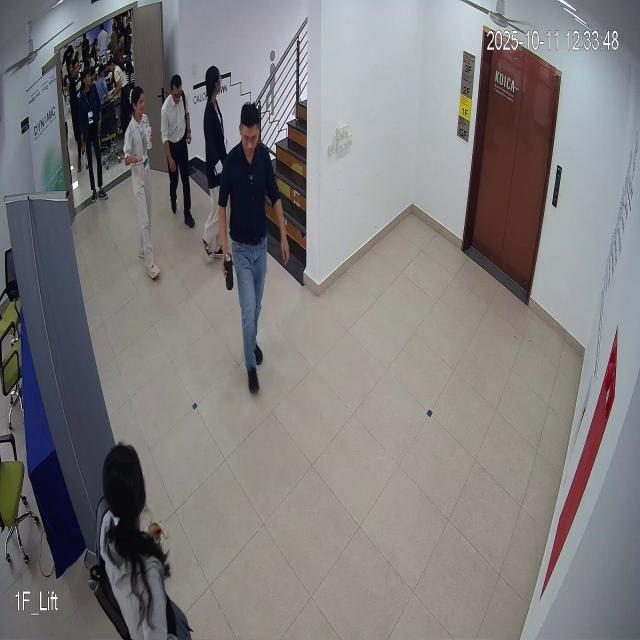face: (237, 96, 265, 163)
